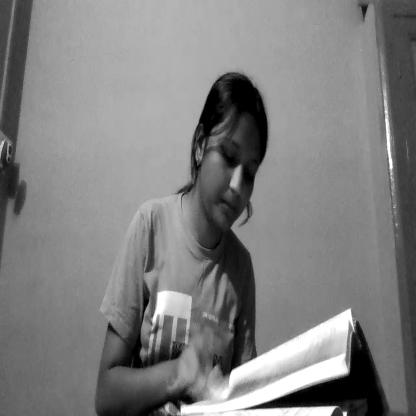Distracted: (189, 74, 278, 249)
